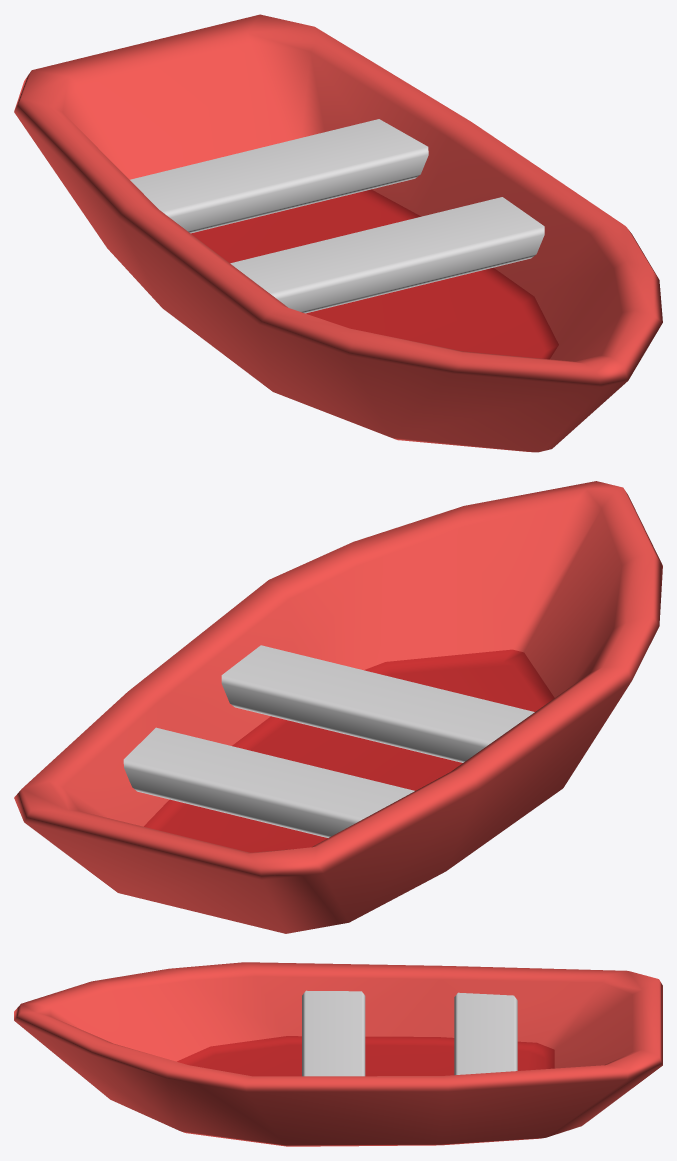
Rendered from boat_001.gltf.
3 views of the same model, one above another, from view 1: azimuth 30°, elevation 25°; view 2: azimuth 150°, elevation 25°; view 3: azimuth 270°, elevation 25° (orthographic). The views are drawn at different scales.
Visible parts, largest first — view 1: boat_001; view 2: boat_001; view 3: boat_001.
Boxes of the visible parts, x1,y1,x2,y2 form: boat_001: (14, 14, 662, 452); boat_001: (14, 481, 662, 933); boat_001: (14, 962, 662, 1146).
Size of the model in its own units: 1.82 by 0.6353 by 3.99.
1 material, 1 textured.
